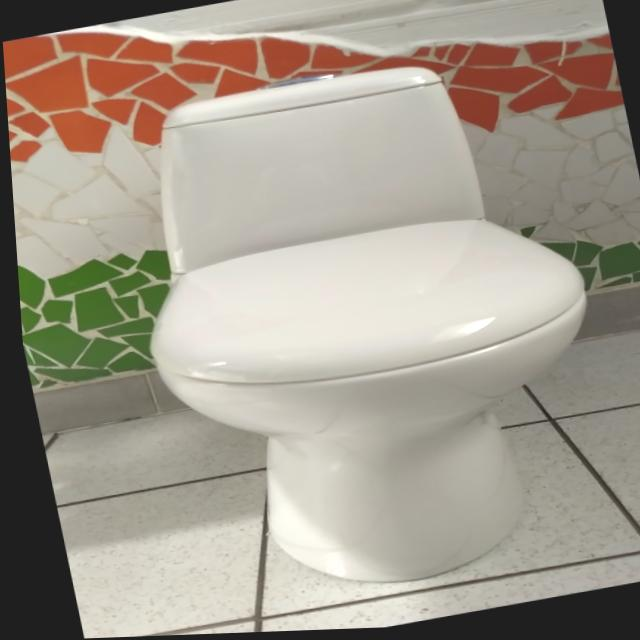toilet: (95, 39, 634, 621)
